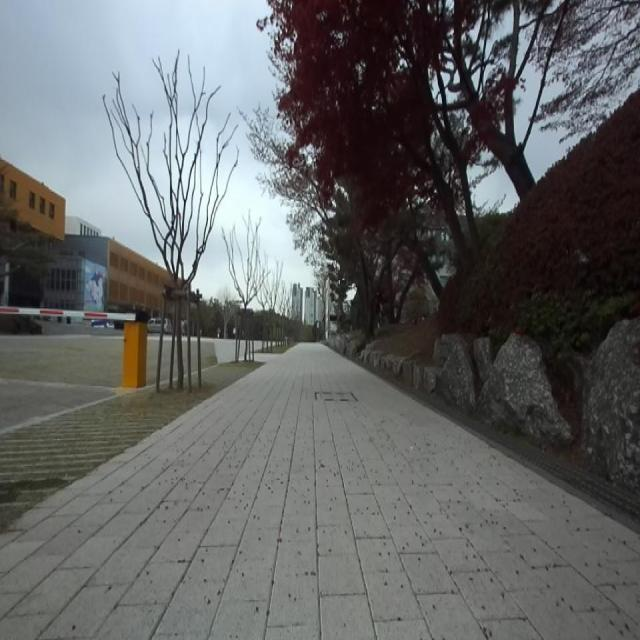sidewalk: (0, 344, 640, 639)
